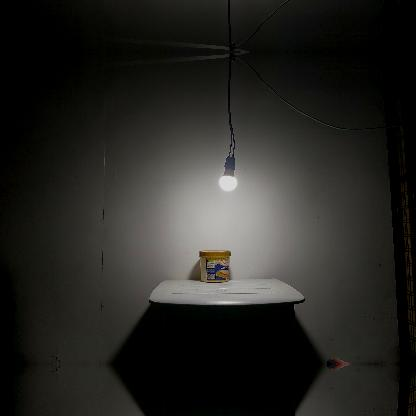Lady-s-Choice: (198, 250, 230, 282)
